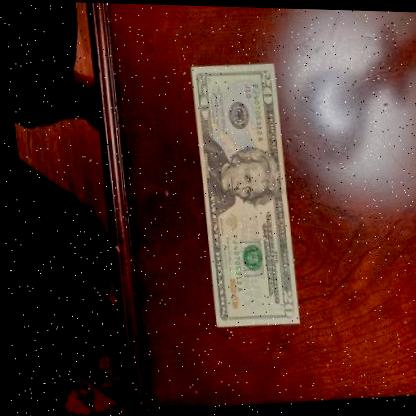dollar_front: (185, 63, 294, 333)
